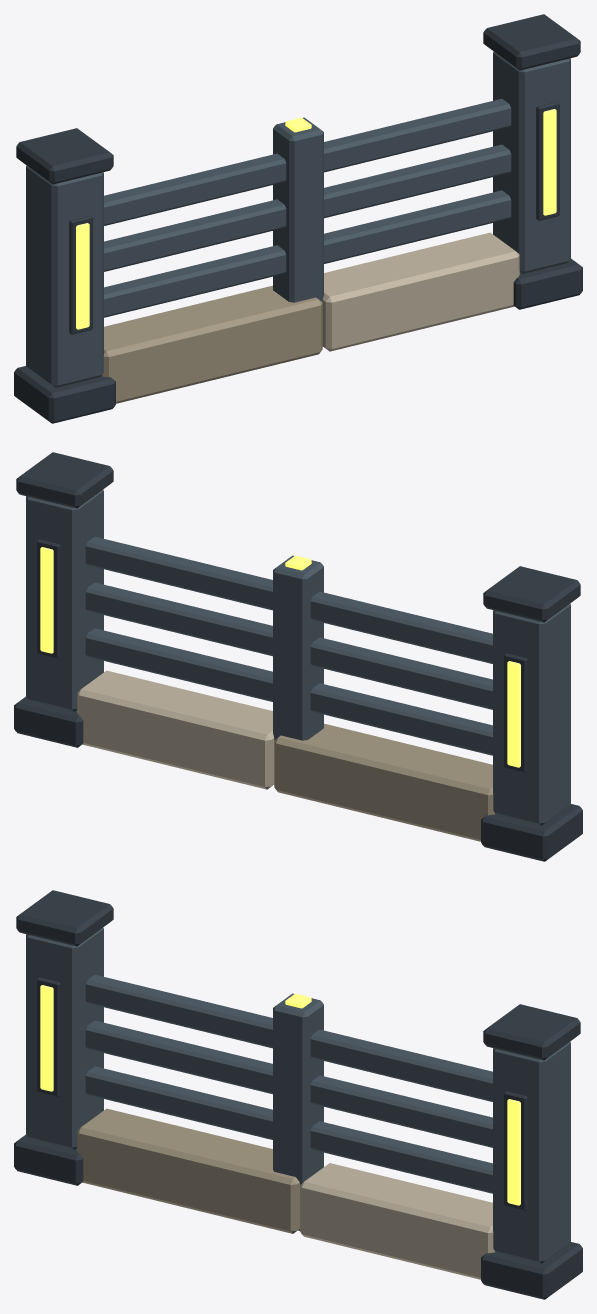
Rendered from Court_FenceStraight.fbx.
3 views of the same model, one above another, from view 1: azimuth 30°, elevation 25°; view 2: azimuth 150°, elevation 25°; view 3: azimuth 330°, elevation 25° (orthographic).
Visible parts, largest first — view 1: Frame, FrameDark, ConcreteDark, Concrete, Lamp; view 2: Frame, FrameDark, ConcreteDark, Concrete, Lamp; view 3: Frame, ConcreteDark, FrameDark, Concrete, Lamp.
Boxes of the visible parts, x1=… form: Frame: x1=26, y1=51, x2=570, y2=387; FrameDark: x1=14, y1=14, x2=582, y2=423; ConcreteDark: x1=101, y1=285, x2=322, y2=403; Concrete: x1=322, y1=232, x2=519, y2=351; Lamp: x1=76, y1=109, x2=556, y2=329; Frame: x1=26, y1=489, x2=570, y2=825; FrameDark: x1=14, y1=452, x2=582, y2=861; ConcreteDark: x1=274, y1=723, x2=495, y2=841; Concrete: x1=77, y1=670, x2=274, y2=789; Lamp: x1=40, y1=547, x2=520, y2=767; Frame: x1=26, y1=927, x2=570, y2=1263; ConcreteDark: x1=77, y1=1108, x2=299, y2=1233; FrameDark: x1=14, y1=890, x2=582, y2=1299; Concrete: x1=300, y1=1163, x2=495, y2=1279; Lamp: x1=40, y1=985, x2=520, y2=1205.
Size of the model in its own units: 9.15 by 4.2 by 1.15.
